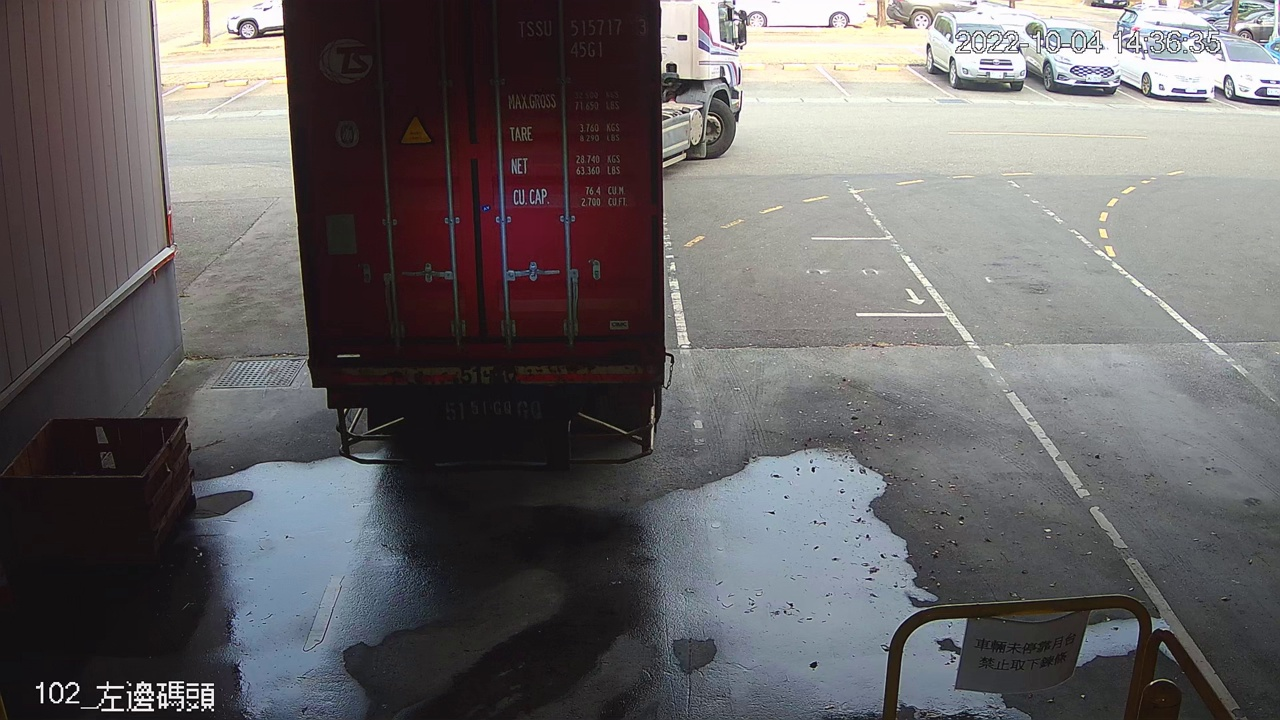container: (512, 12, 653, 63)
